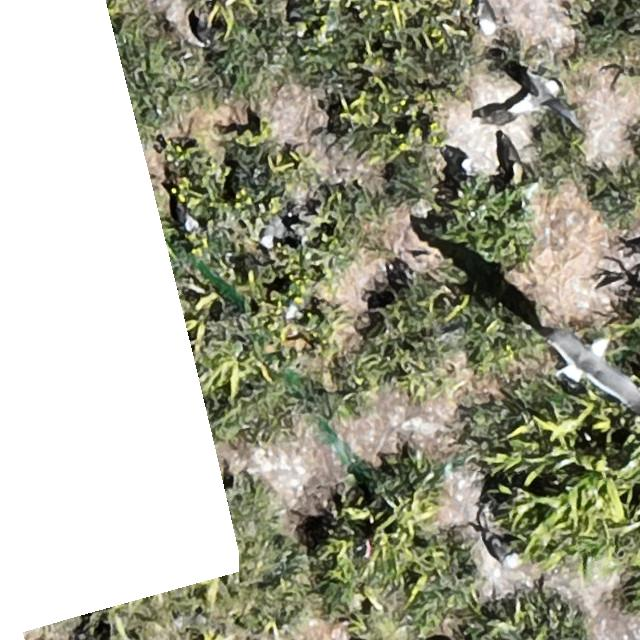F: (552, 332, 632, 404), (505, 61, 576, 117)
umineko: (490, 536, 518, 566), (474, 3, 496, 32), (445, 148, 470, 170), (260, 220, 276, 247)
